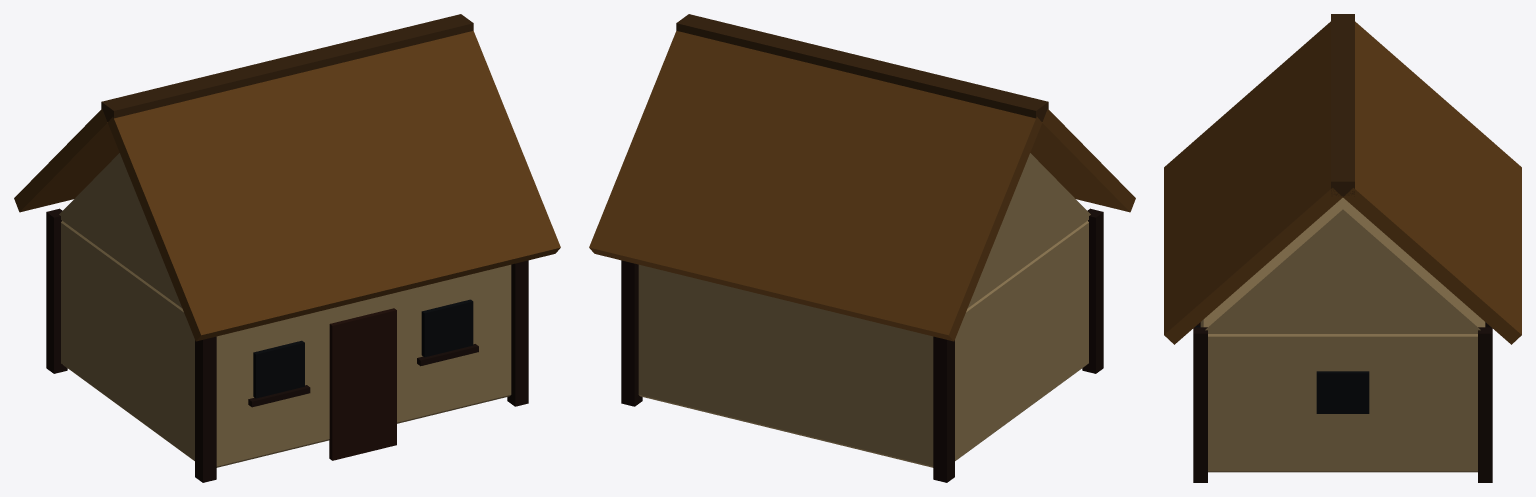
Rendered from house_small_posts.fbx.
3 views of the same model, side by side, from view 1: azimuth 30°, elevation 25°; view 2: azimuth 150°, elevation 25°; view 3: azimuth 270°, elevation 25° (orthographic). The views are drawn at different scales.
Parts seen in each view (by area): view 1: house_small_posts; view 2: house_small_posts; view 3: house_small_posts.
Part boxes in pixels (x1,y1,x2,y2): house_small_posts: (14, 14, 560, 482); house_small_posts: (589, 14, 1135, 482); house_small_posts: (1164, 14, 1521, 482).
Bounding box in the file's own units: 5.3 × 4.7 × 4.78.
